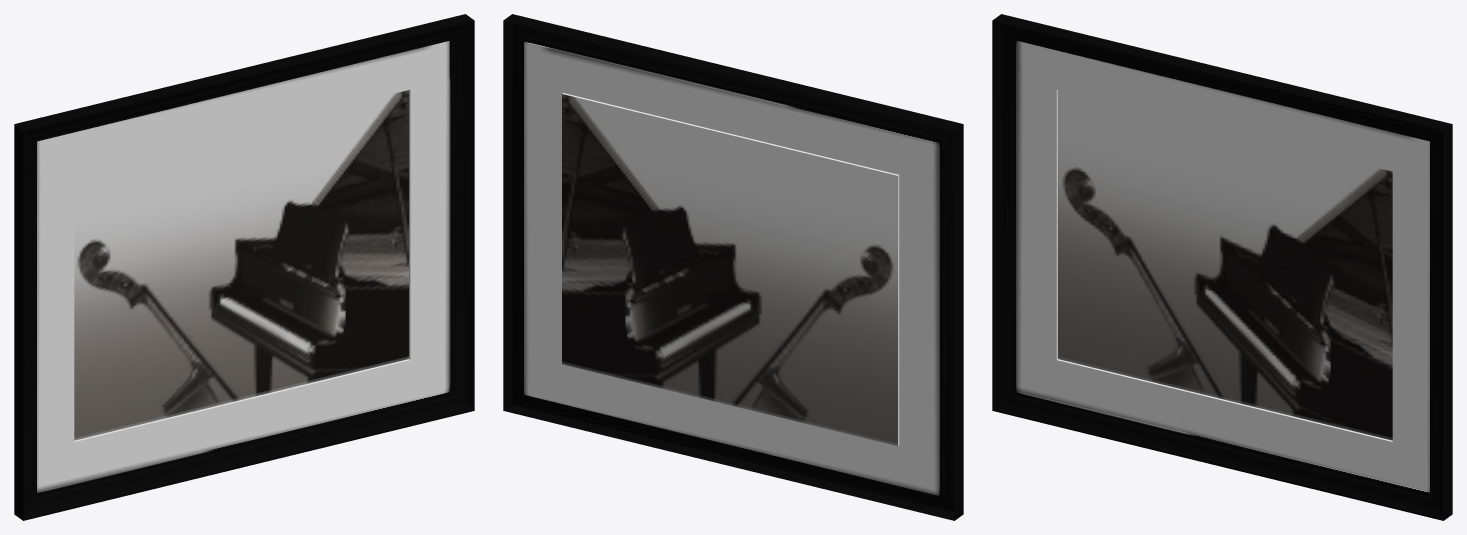
File: SAd_FramePhoto01.fbx
The picture shows the model from 3 angles, left to right: view 1: azimuth 30°, elevation 25°; view 2: azimuth 150°, elevation 25°; view 3: azimuth 330°, elevation 25°; orthographic projection.
Parts seen in each view (by area): view 1: SAd_FramePhoto01; view 2: SAd_FramePhoto01; view 3: SAd_FramePhoto01.
Boxes of the visible parts, bbox=[...] form: SAd_FramePhoto01: bbox=[14, 14, 474, 520]; SAd_FramePhoto01: bbox=[503, 14, 963, 520]; SAd_FramePhoto01: bbox=[992, 14, 1452, 520].
Size of the model in its own units: 1.15 by 0.95 by 0.04.
